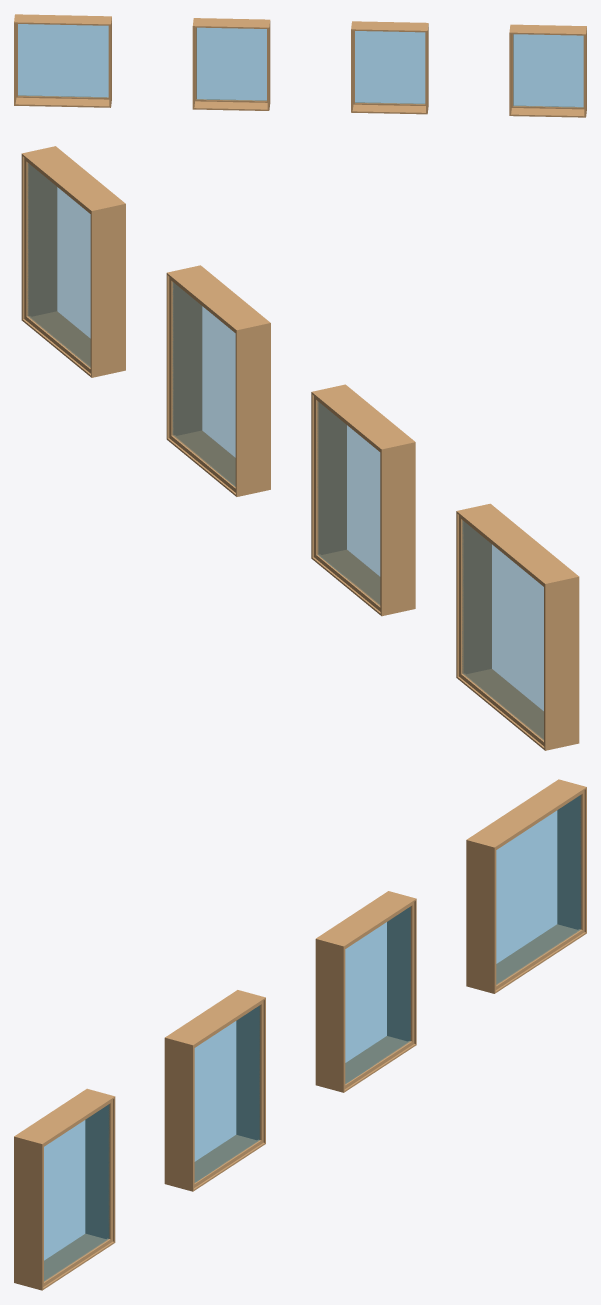
Rendered from 20160125Autodesk_Hospital_Parking Garage_2015_2nd_Floor_IfcWindow.dae.
3 renders of one model, top to bottom at view 1: azimuth 30°, elevation 25°; view 2: azimuth 150°, elevation 25°; view 3: azimuth 270°, elevation 25°, orthographic. The views are drawn at different scales.
Visible parts, largest first — view 1: 26iONxQpXE4gO5dy3VBR0O, 26iONxQpXE4gO5dy3VBR0P, 26iONxQpXE4gO5dy3VBR0V, 26iONxQpXE4gO5dy3VBR0U; view 2: 26iONxQpXE4gO5dy3VBR0O, 26iONxQpXE4gO5dy3VBR0V, 26iONxQpXE4gO5dy3VBR0P, 26iONxQpXE4gO5dy3VBR0U; view 3: 26iONxQpXE4gO5dy3VBR0O, 26iONxQpXE4gO5dy3VBR0V, 26iONxQpXE4gO5dy3VBR0U, 26iONxQpXE4gO5dy3VBR0P.
Part boxes in pixels (<box>): 26iONxQpXE4gO5dy3VBR0O: <box>14,14,111,107</box>; 26iONxQpXE4gO5dy3VBR0P: <box>192,18,270,110</box>; 26iONxQpXE4gO5dy3VBR0V: <box>509,24,586,117</box>; 26iONxQpXE4gO5dy3VBR0U: <box>351,21,428,114</box>; 26iONxQpXE4gO5dy3VBR0O: <box>456,503,579,750</box>; 26iONxQpXE4gO5dy3VBR0V: <box>21,146,125,377</box>; 26iONxQpXE4gO5dy3VBR0P: <box>311,384,415,616</box>; 26iONxQpXE4gO5dy3VBR0U: <box>166,265,270,496</box>; 26iONxQpXE4gO5dy3VBR0O: <box>466,779,586,993</box>; 26iONxQpXE4gO5dy3VBR0V: <box>14,1088,115,1290</box>; 26iONxQpXE4gO5dy3VBR0U: <box>164,990,265,1191</box>; 26iONxQpXE4gO5dy3VBR0P: <box>315,891,416,1092</box>.
Bounding box in the file's own units: 9.77 × 6.48 × 1.83.
